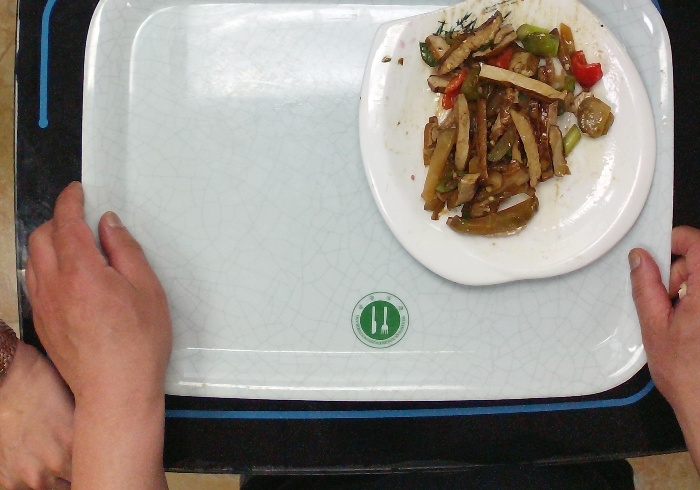JYsf-Mian_Pan: (355, 1, 659, 287)
